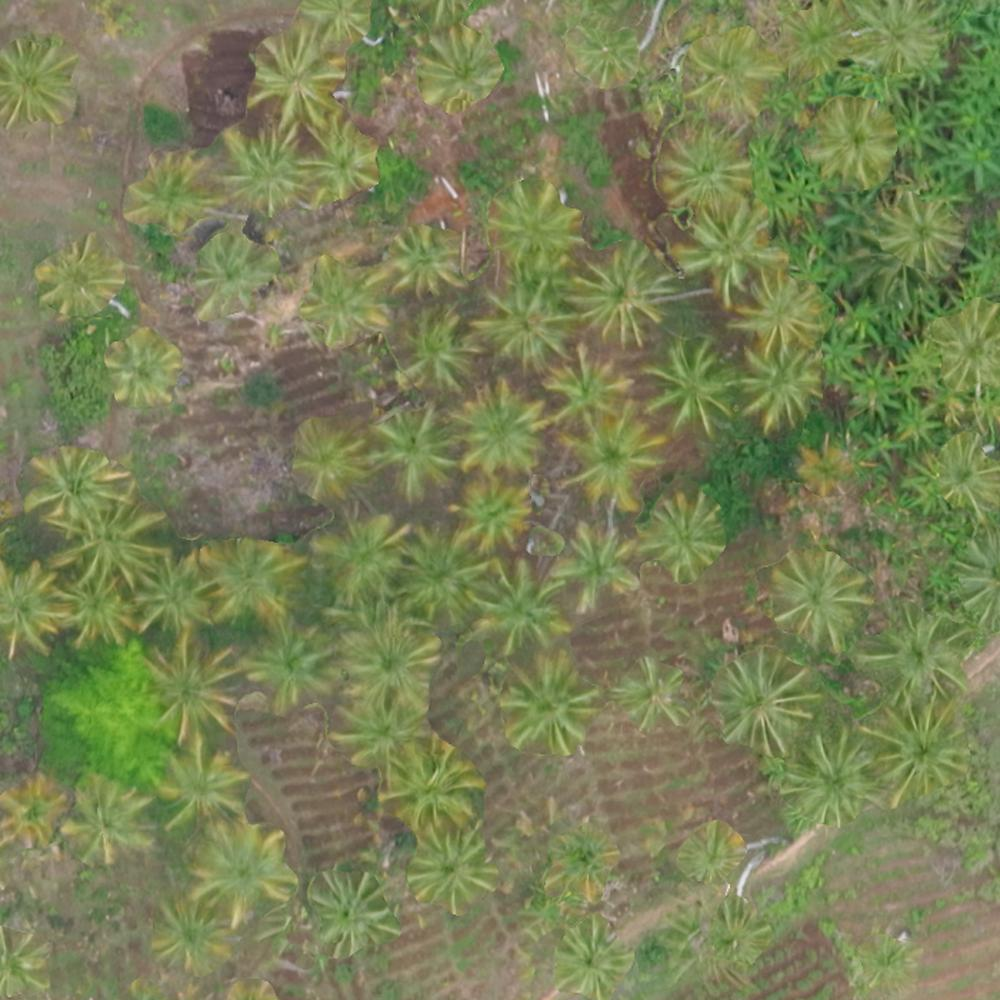Palm: (497, 655, 602, 752), (467, 559, 574, 651), (677, 198, 785, 288), (864, 601, 963, 699), (147, 635, 245, 734), (865, 702, 968, 796), (561, 412, 660, 508), (60, 494, 167, 581), (718, 651, 812, 750), (772, 549, 867, 644), (194, 823, 290, 917), (572, 248, 669, 341), (243, 614, 337, 708), (640, 340, 732, 433), (244, 35, 338, 124), (387, 306, 483, 393), (342, 614, 433, 705), (386, 745, 482, 829), (374, 407, 466, 492), (480, 283, 574, 366), (559, 518, 643, 609), (780, 735, 870, 819), (333, 705, 434, 779), (459, 383, 543, 471), (64, 779, 152, 863), (691, 26, 775, 113), (25, 443, 115, 524), (407, 830, 499, 909), (301, 259, 388, 342), (162, 741, 246, 826), (810, 96, 894, 180), (316, 516, 399, 601), (126, 155, 221, 229), (222, 134, 309, 214), (491, 184, 577, 264), (737, 272, 831, 345), (547, 346, 630, 426), (305, 877, 391, 954), (413, 27, 493, 109), (132, 552, 213, 632), (453, 472, 536, 550), (644, 497, 726, 575), (3, 36, 75, 124), (293, 412, 370, 494), (396, 536, 476, 614), (738, 347, 821, 422), (931, 298, 1000, 388), (660, 131, 748, 201), (1, 560, 68, 650), (209, 540, 288, 615), (152, 898, 234, 969), (53, 572, 136, 642), (198, 232, 274, 308), (853, 6, 940, 72), (883, 193, 959, 268), (780, 1, 854, 78), (40, 239, 116, 312), (302, 125, 374, 200), (612, 656, 686, 726), (567, 18, 638, 90), (548, 922, 621, 992), (932, 434, 999, 510), (377, 229, 454, 294), (548, 821, 612, 897), (1, 773, 64, 844), (111, 332, 172, 401), (681, 822, 741, 880)
